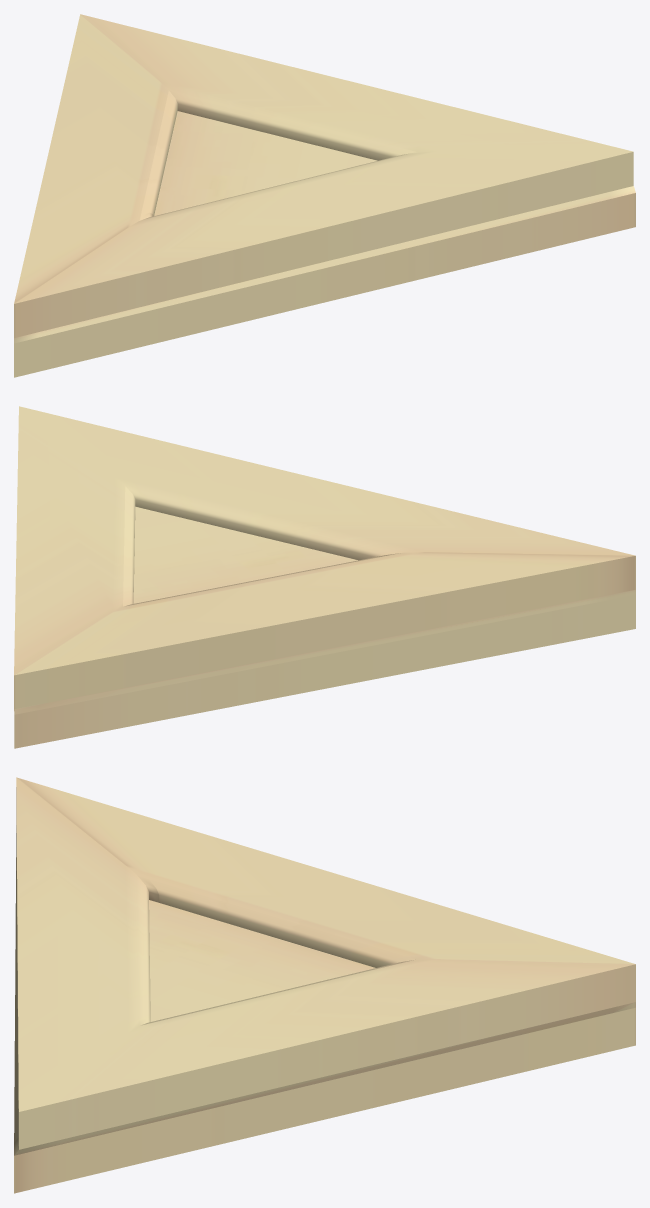
File: triangle collectible.fbx
The picture shows the model from 3 angles, top to bottom: view 1: azimuth 30°, elevation 25°; view 2: azimuth 150°, elevation 25°; view 3: azimuth 270°, elevation 25°; orthographic projection. The views are drawn at different scales.
Parts seen in each view (by area): view 1: polySurface11; view 2: polySurface11; view 3: polySurface11.
Boxes of the visible parts, <box> form: polySurface11: <box>14,14,635,377</box>; polySurface11: <box>14,406,635,748</box>; polySurface11: <box>14,777,635,1193</box>.
Bounding box in the file's own units: 13.7 × 1.56 × 10.76.
Materials: 1 (1 with a texture image).
